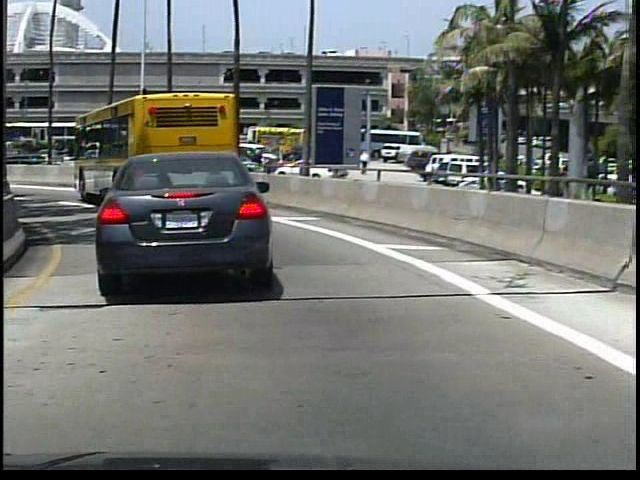person: (356, 147, 370, 178), (249, 147, 262, 179)
